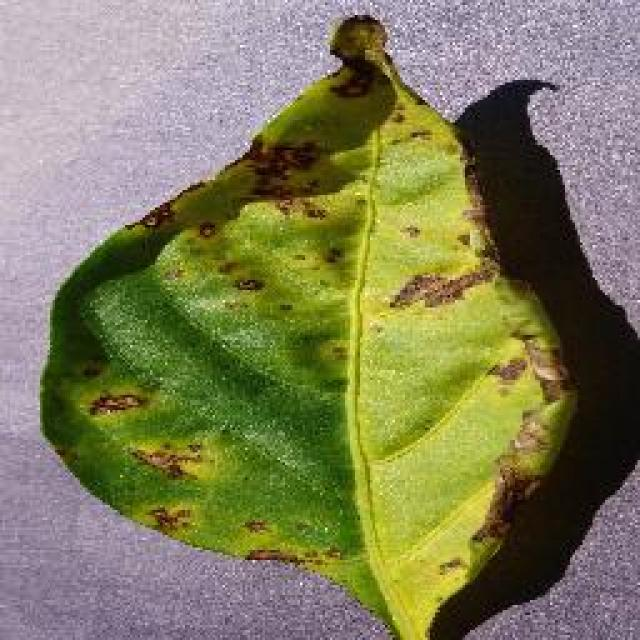Chilli_Bacterial_Spot: (35, 12, 583, 638), (78, 372, 348, 570), (122, 432, 208, 540), (240, 130, 328, 200), (385, 260, 495, 315), (125, 435, 207, 485), (322, 10, 390, 65), (240, 540, 348, 568), (142, 500, 198, 538), (122, 197, 178, 235), (325, 62, 377, 102), (85, 388, 147, 420), (488, 352, 530, 388), (432, 552, 468, 580), (75, 352, 105, 382), (315, 240, 347, 268), (238, 512, 272, 538), (227, 273, 265, 295), (192, 218, 220, 242), (398, 220, 422, 242)
